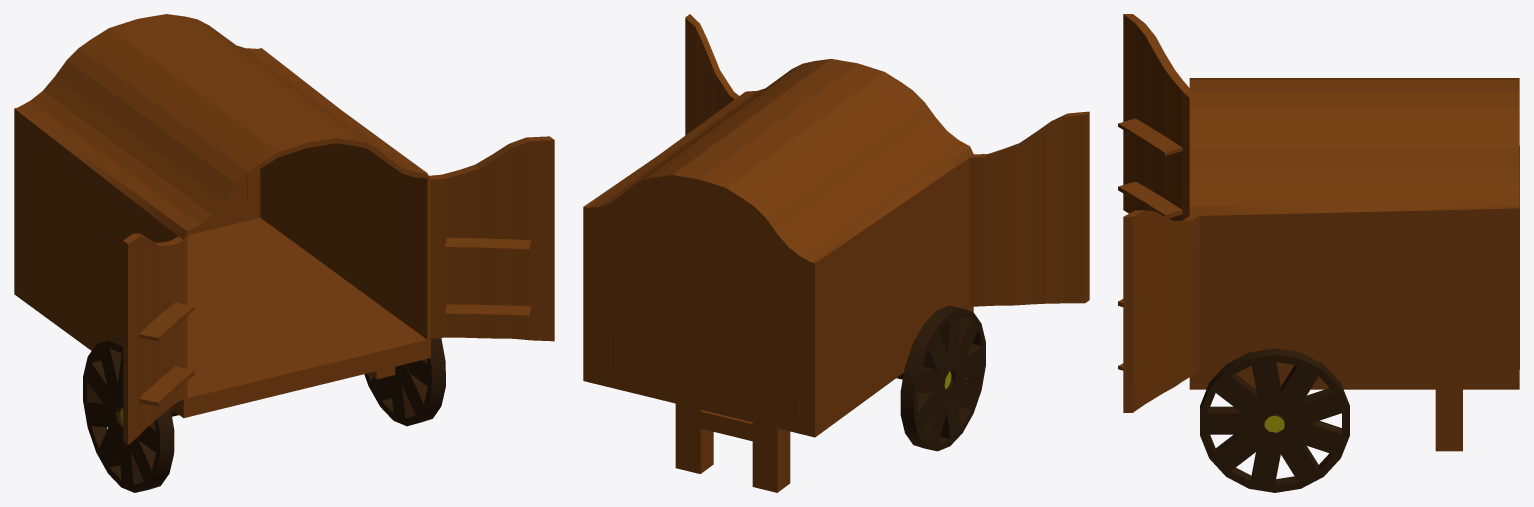
Rendered from carroza (1).fbx.
The picture shows the model from 3 angles, left to right: view 1: azimuth 30°, elevation 25°; view 2: azimuth 150°, elevation 25°; view 3: azimuth 270°, elevation 25°; orthographic projection. The views are drawn at different scales.
Visible parts, largest first — view 1: Box004, Cylinder002; view 2: Box004, Cylinder002; view 3: Box004, Cylinder002.
Boxes of the visible parts, x1,y1,x2,y2 form: Box004: (14, 14, 554, 444); Cylinder002: (83, 337, 445, 492); Box004: (583, 14, 1089, 492); Cylinder002: (900, 305, 985, 451); Box004: (1118, 14, 1519, 451); Cylinder002: (1200, 348, 1349, 492).
Size of the model in its own units: 2.47 by 1.9 by 2.07.
